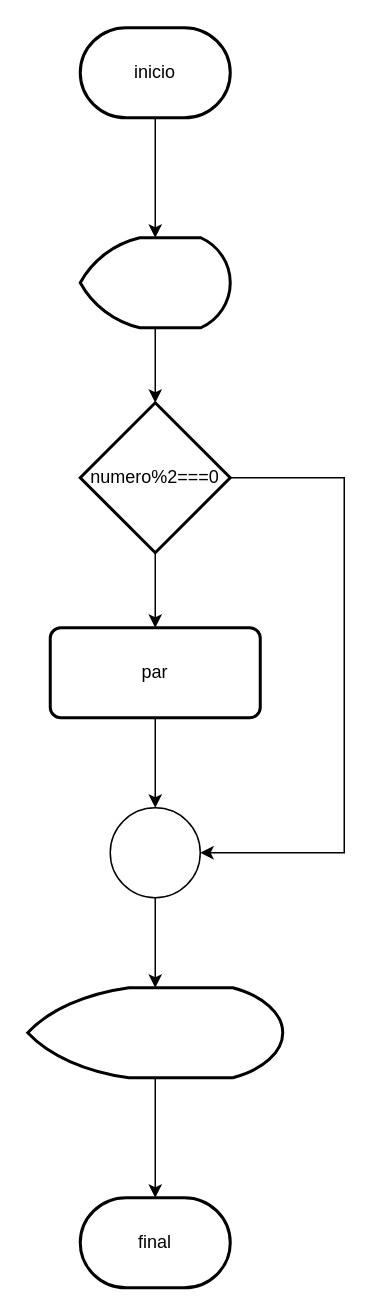
Some shapes in this 383 by 1314 pixel diagram are drawn without their labels. Each missing label, with the centre of its shape:
digite um numero: (x=154, y=282)
o numero é="par/impar": (x=155, y=1032)
